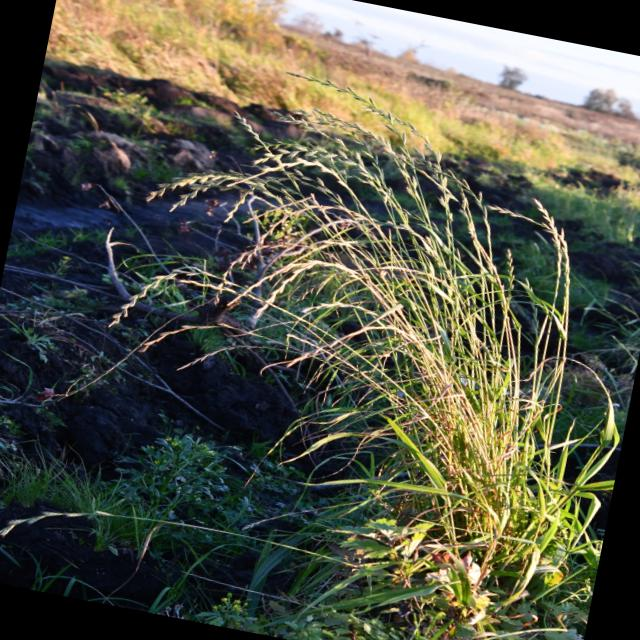Lolium: (0, 23, 640, 640), (254, 89, 606, 552), (107, 132, 442, 338), (252, 103, 489, 338), (402, 172, 554, 444), (478, 192, 610, 486)
